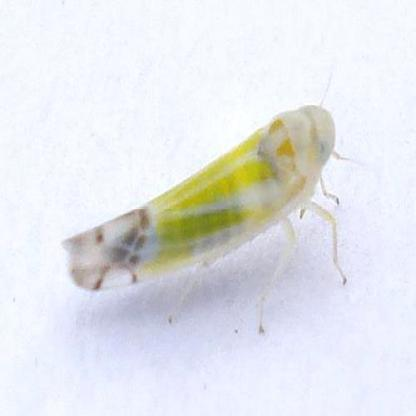green-leafhopper: (63, 106, 348, 335)
